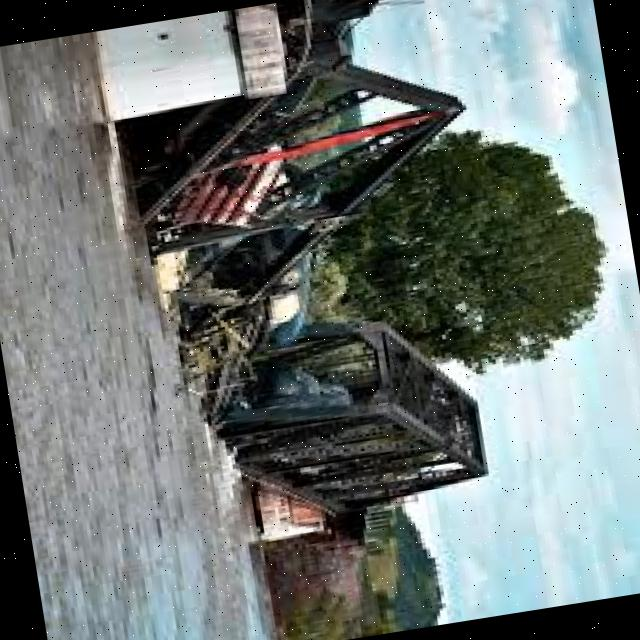bridge collapse: (10, 0, 604, 596)
